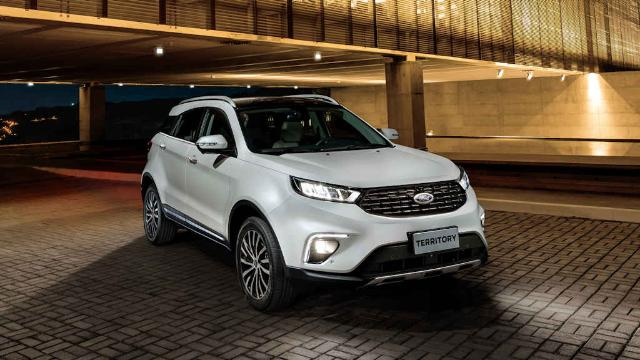ford: (140, 94, 488, 312)
